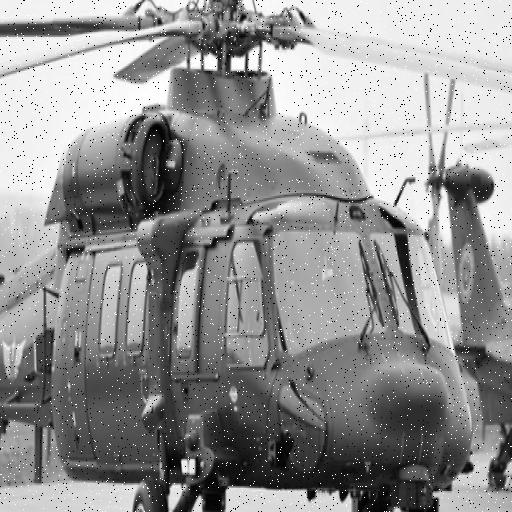helicopter: (1, 1, 475, 512)
